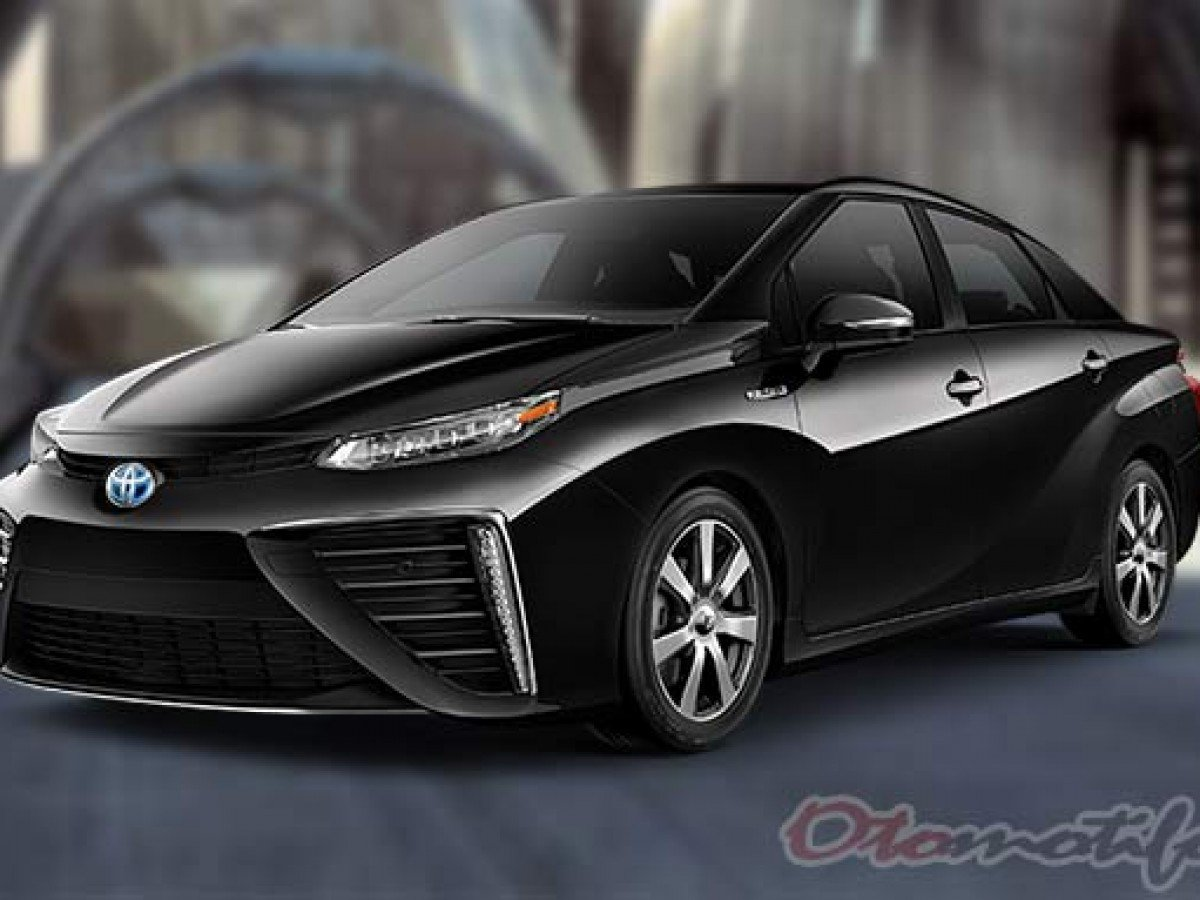mobil: (8, 177, 1200, 765)
